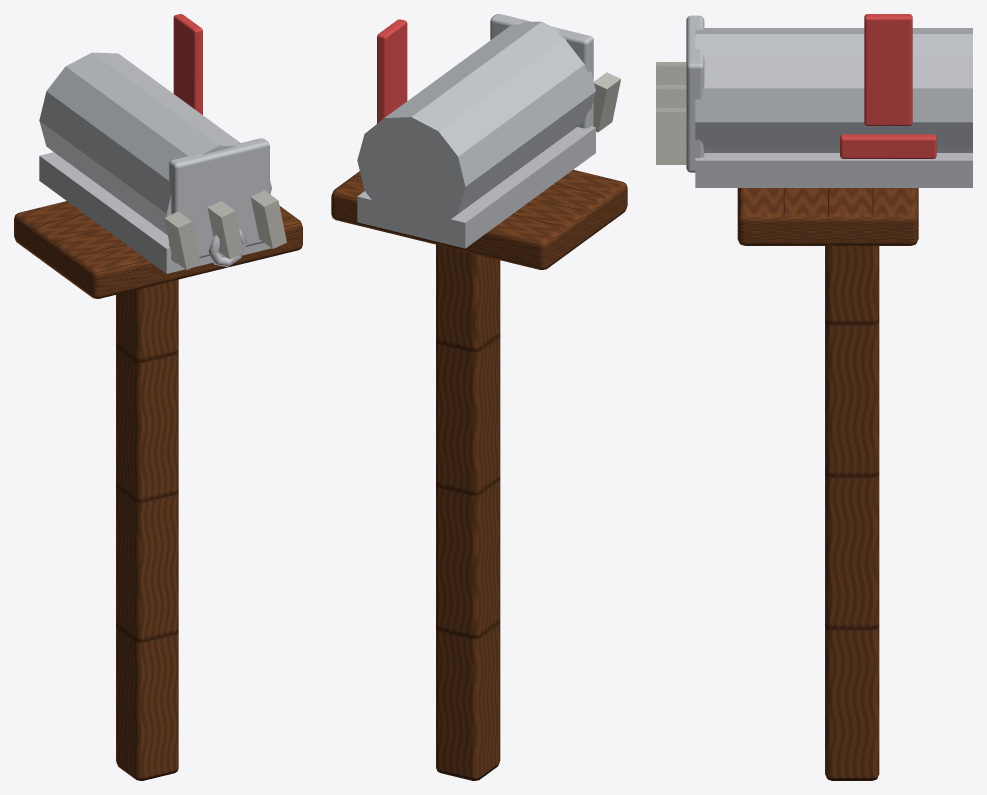
The model's file is halloween-slasher-street-suburban-mailbox-d22d1dac__27278.glb.
3 renders of one model, left to right at view 1: azimuth 30°, elevation 25°; view 2: azimuth 150°, elevation 25°; view 3: azimuth 270°, elevation 25°, orthographic. The views are drawn at different scales.
Parts seen in each view (by area): view 1: suburban-mailbox; view 2: suburban-mailbox; view 3: suburban-mailbox.
Boxes of the visible parts, x1,y1,x2,y2 form: suburban-mailbox: [14, 14, 302, 780]; suburban-mailbox: [331, 14, 627, 780]; suburban-mailbox: [656, 14, 972, 780].
Size of the model in its own units: 0.44 by 1.44 by 0.525.
Materials: 4 (2 with a texture image).
